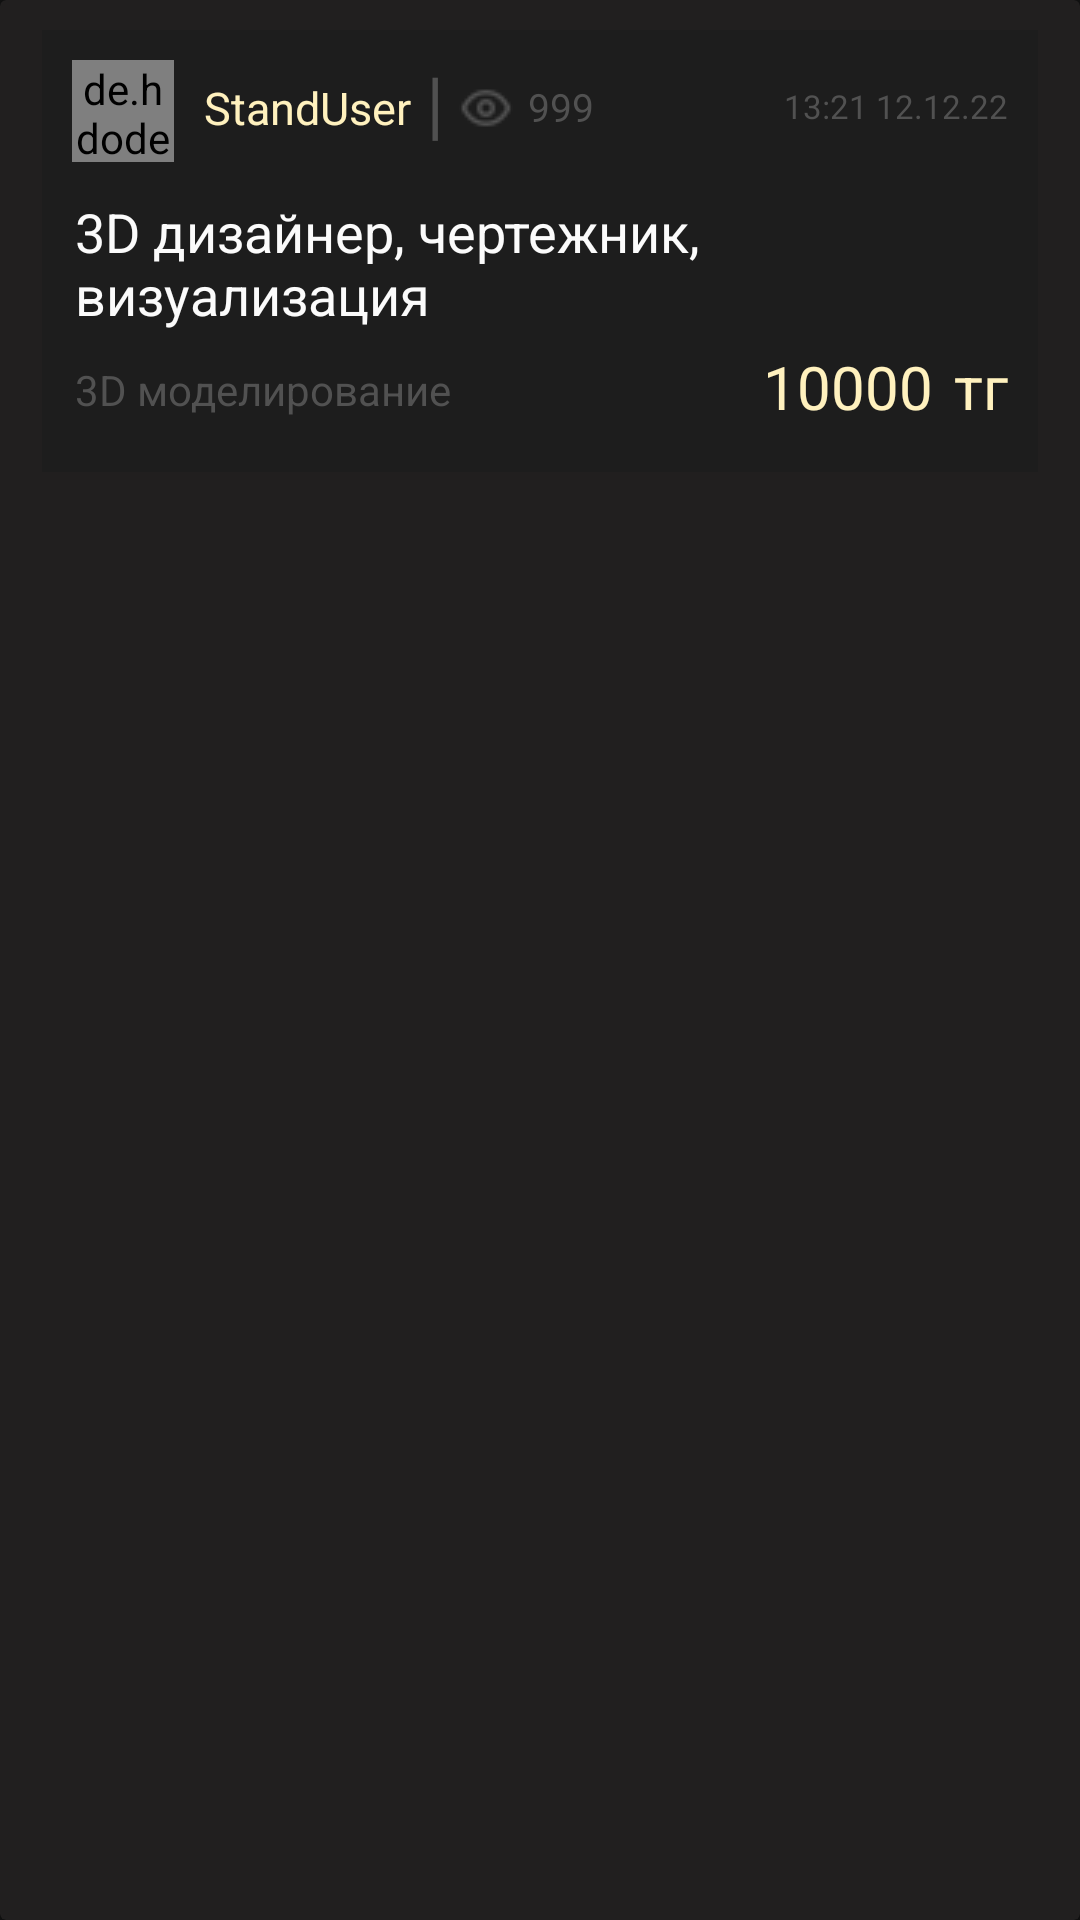

Icon bounding boxes for this 1080×1920 phone screenshot, format (x1, y1, x2, y2):
open eye: (462, 90, 510, 126)
